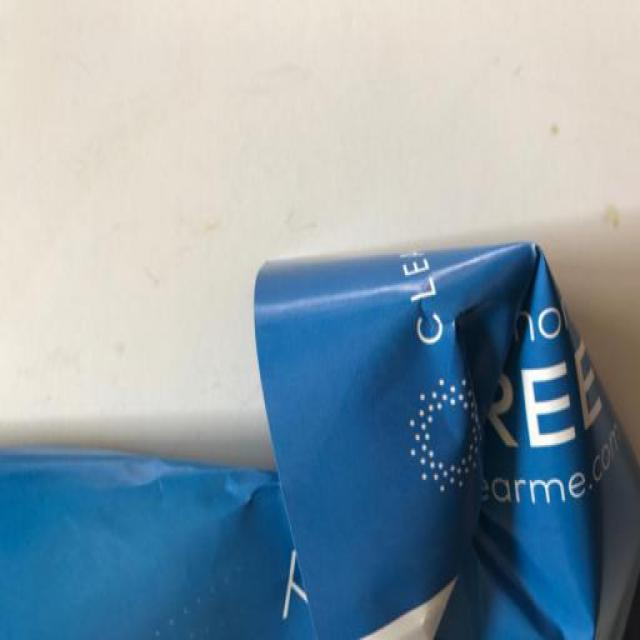paper: (1, 182, 640, 640)
